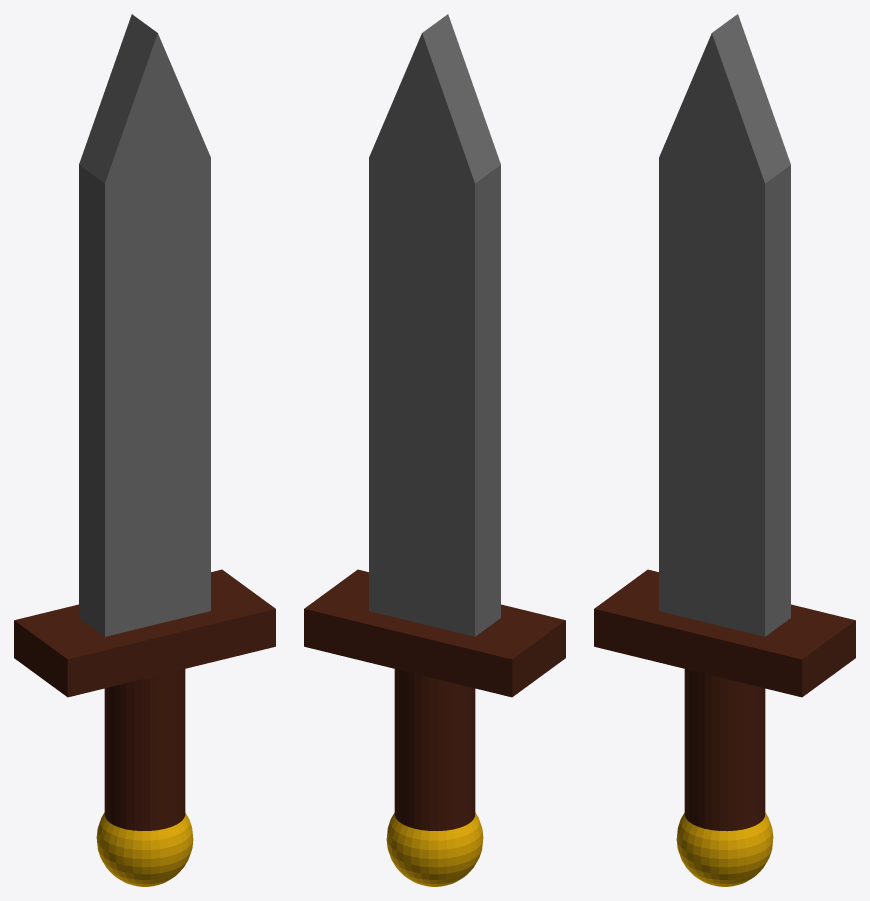
Rendered from 01_Sword.fbx.
3 views of the same model, side by side, from view 1: azimuth 30°, elevation 25°; view 2: azimuth 150°, elevation 25°; view 3: azimuth 330°, elevation 25° (orthographic).
Parts seen in each view (by area): view 1: Cube.001, Cube, Cylinder, Sphere; view 2: Cube.001, Cube, Cylinder, Sphere; view 3: Cube.001, Cube, Cylinder, Sphere.
Boxes of the visible parts, x1,y1,x2,y2 form: Cube.001: [79, 14, 210, 636]; Cube: [14, 569, 275, 697]; Cylinder: [104, 669, 185, 830]; Sphere: [96, 812, 193, 886]; Cube.001: [369, 14, 500, 636]; Cube: [304, 569, 565, 697]; Cylinder: [394, 669, 475, 830]; Sphere: [386, 812, 483, 886]; Cube.001: [659, 14, 790, 636]; Cube: [594, 569, 855, 697]; Cylinder: [684, 669, 765, 831]; Sphere: [676, 812, 773, 886].
Bounding box in the file's own units: 0.4818 × 1.9 × 0.2153.
